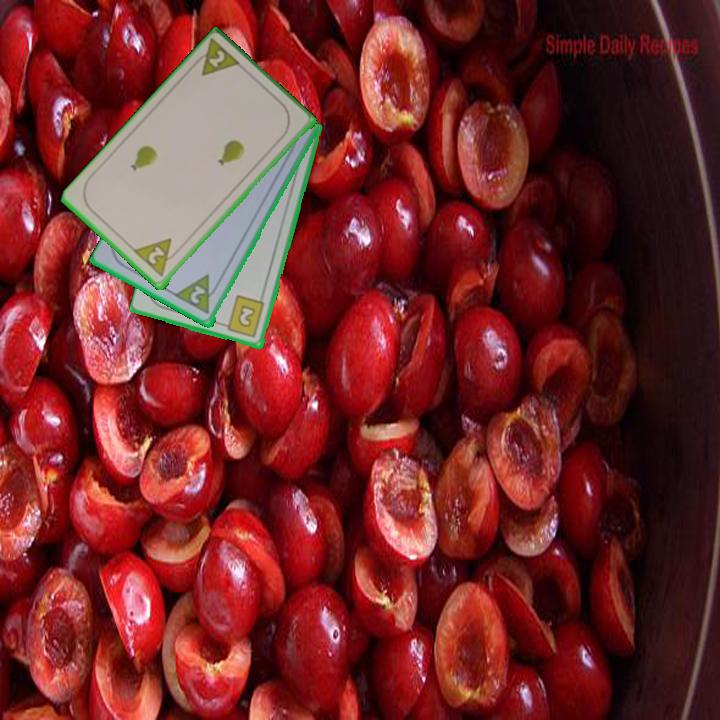2b: (218, 293, 267, 341)
2p: (188, 36, 245, 80), (131, 235, 183, 280), (186, 282, 209, 307)
